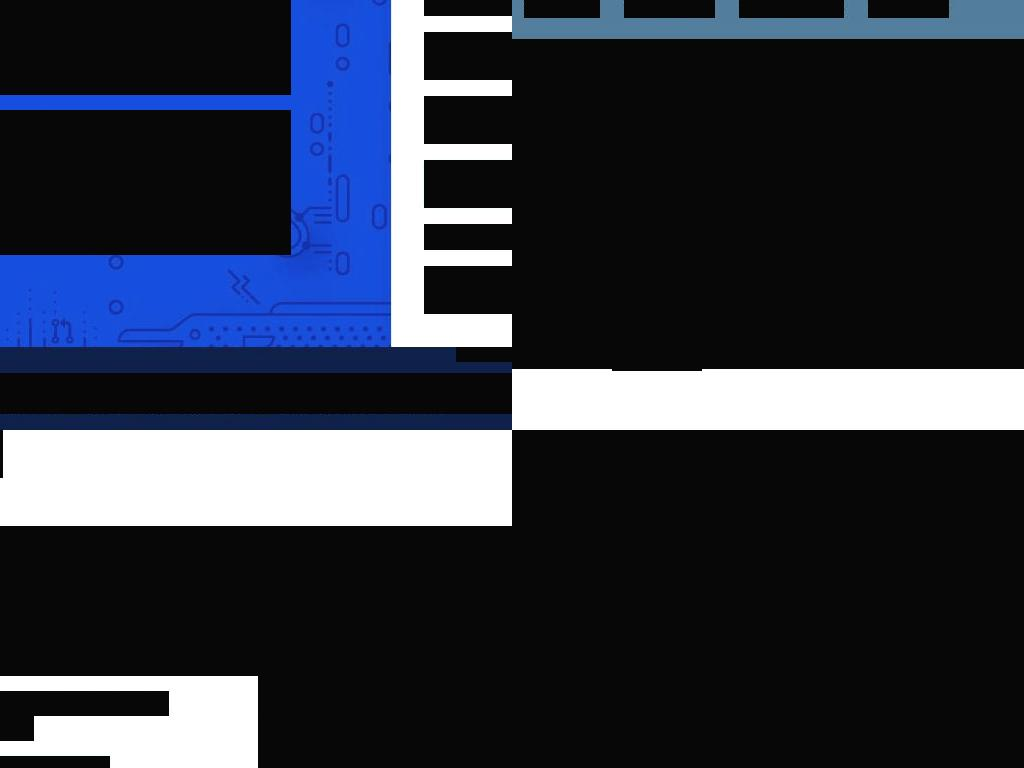button: (661, 622, 947, 768), (424, 160, 512, 208), (424, 266, 512, 314), (528, 488, 551, 511), (564, 488, 587, 511), (599, 488, 622, 511), (634, 488, 657, 511), (669, 488, 692, 511), (704, 488, 727, 511), (740, 488, 763, 511), (775, 488, 798, 511), (810, 488, 833, 511), (845, 488, 868, 511), (880, 488, 903, 511), (951, 488, 974, 511), (986, 488, 1009, 511), (916, 488, 938, 511)
field: (424, 32, 512, 80), (424, 96, 512, 144)
heading: (0, 0, 291, 95), (0, 526, 512, 576), (0, 576, 512, 626), (0, 626, 512, 676)
image: (258, 534, 512, 768), (662, 623, 946, 768), (512, 623, 637, 768), (612, 356, 627, 371), (627, 356, 642, 371), (642, 356, 657, 371), (657, 356, 672, 371), (672, 356, 687, 371), (687, 356, 702, 371)
link: (739, 0, 844, 18), (624, 0, 715, 18), (868, 0, 949, 18), (524, 0, 600, 18), (648, 469, 709, 485), (612, 469, 641, 485), (818, 430, 856, 439), (706, 430, 738, 439), (780, 430, 811, 439), (964, 430, 995, 439), (744, 430, 773, 439), (927, 430, 956, 439), (864, 430, 889, 439), (896, 430, 921, 439)
text: (512, 430, 1024, 768), (512, 39, 1024, 369), (0, 110, 291, 255), (0, 373, 512, 414), (0, 395, 437, 414), (0, 691, 169, 716), (424, 224, 512, 250), (604, 430, 699, 442), (0, 716, 34, 741), (456, 347, 512, 362), (475, 283, 512, 299)
